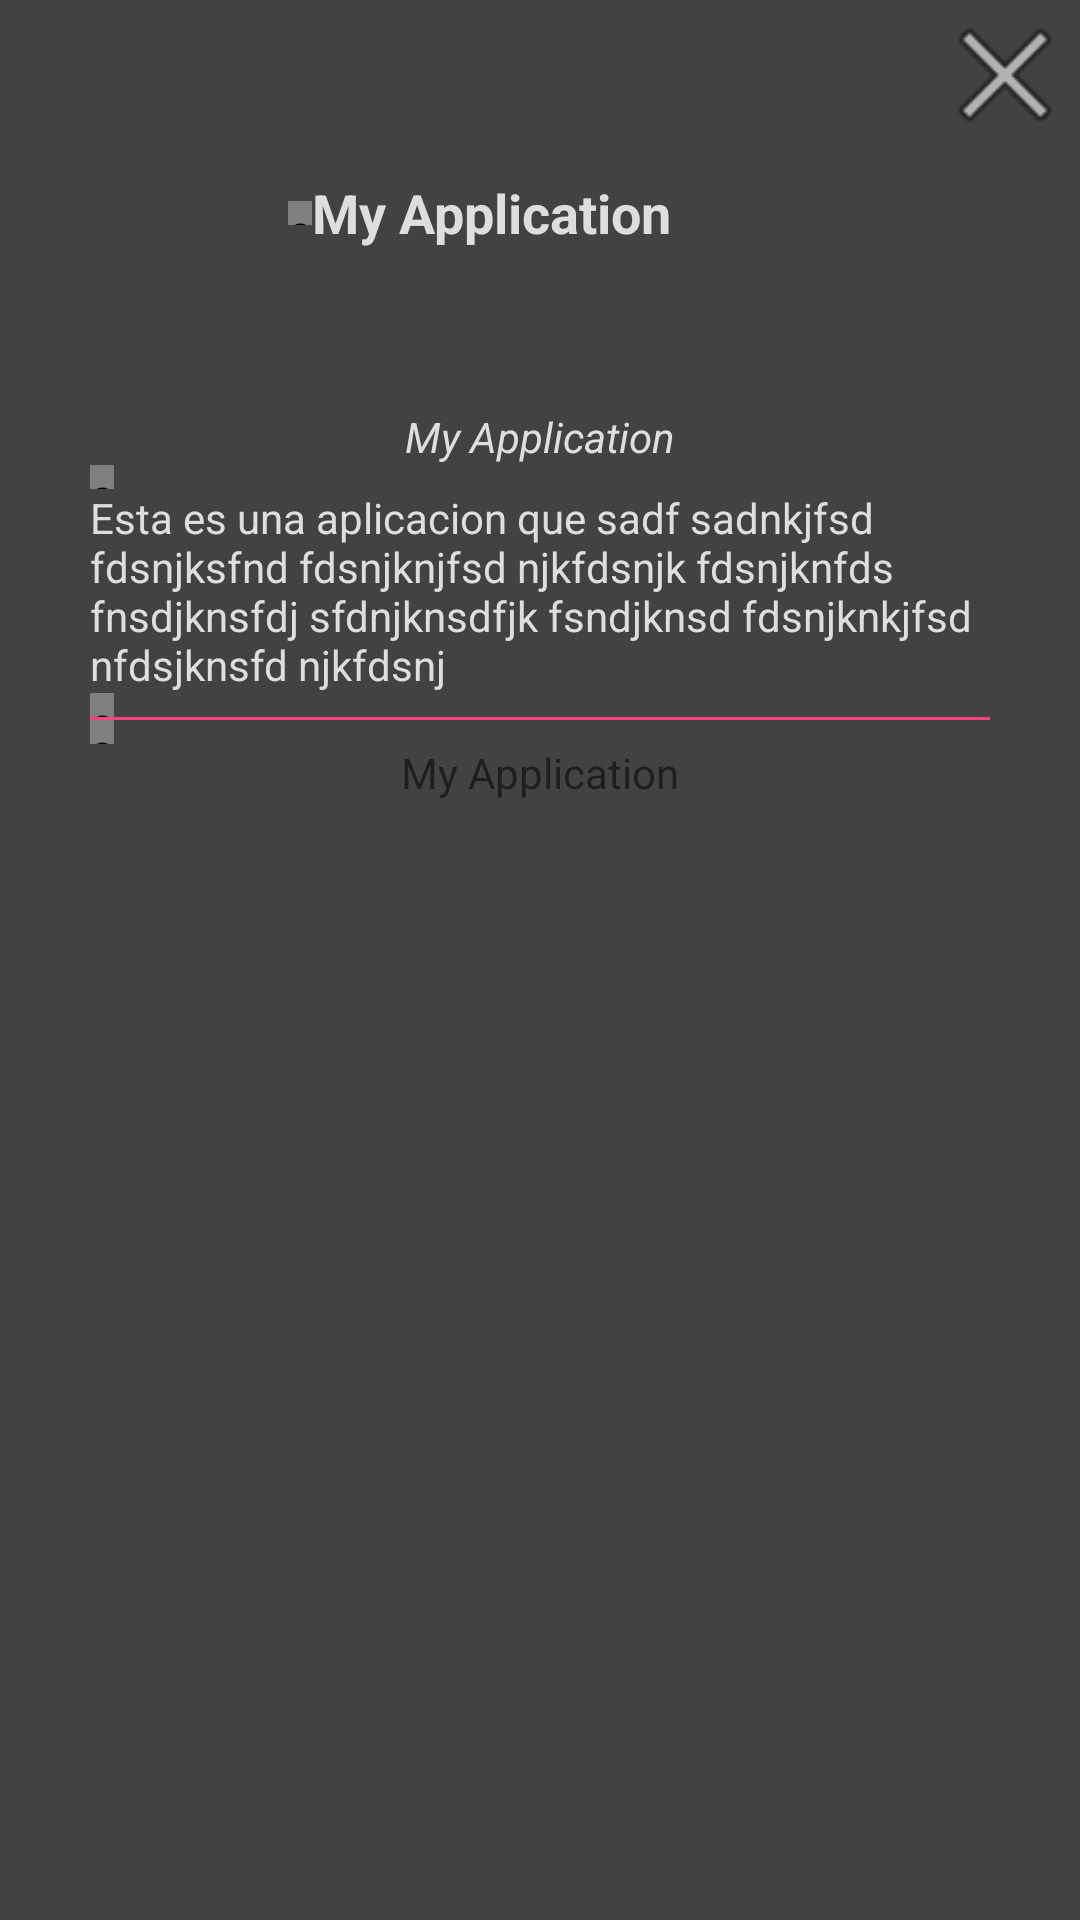

Icon bounding boxes for this 1080w x 1920h phone screenshot, format (x1, y1, x2, y2):
close clear cancel: (961, 31, 1049, 119)
